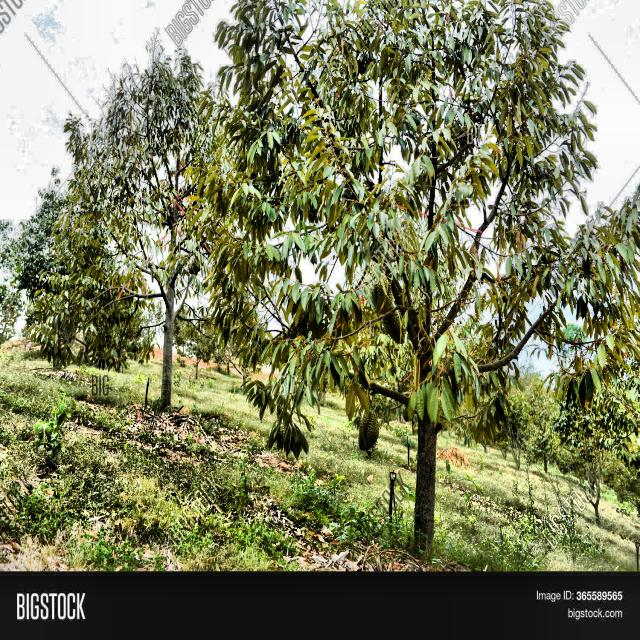arvore: (403, 261, 450, 561), (159, 150, 179, 426)
